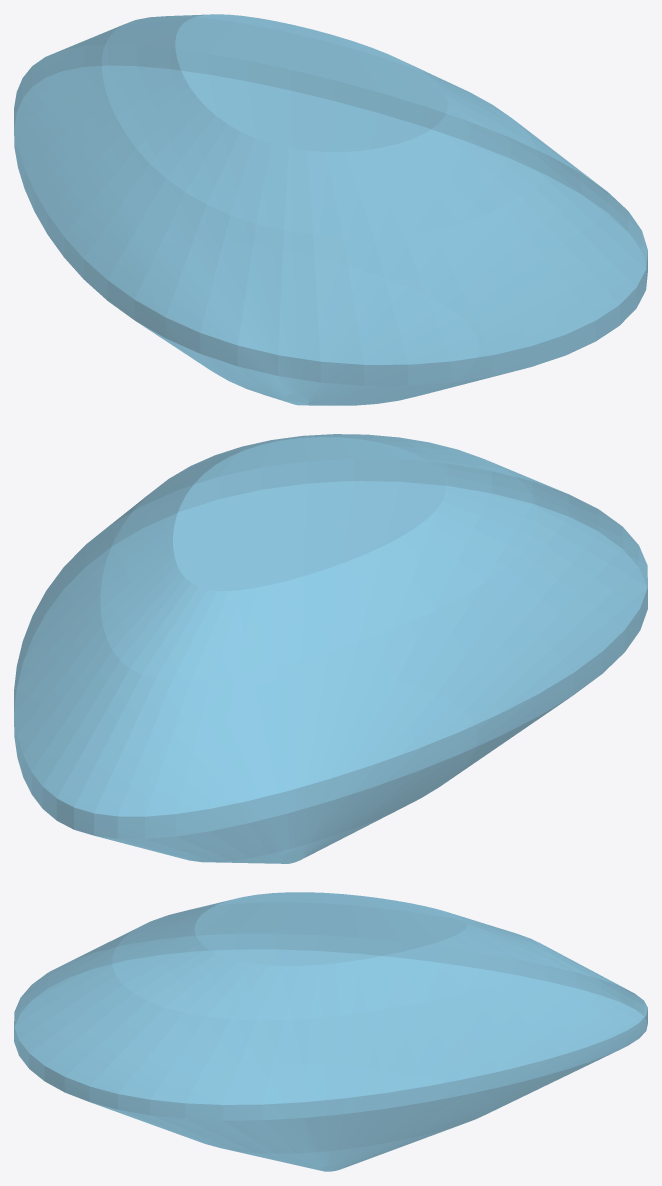
The model's file is stone-topaz.glb.
3 renders of one model, top to bottom at view 1: azimuth 30°, elevation 25°; view 2: azimuth 150°, elevation 25°; view 3: azimuth 270°, elevation 25°, orthographic. The views are drawn at different scales.
Visible parts, largest first — view 1: Sculpture; view 2: Sculpture; view 3: Sculpture.
Part boxes in pixels (x1,y1,x2,y2): Sculpture: (14, 14, 647, 405); Sculpture: (14, 434, 647, 863); Sculpture: (14, 892, 647, 1171).
Bounding box in the file's own units: 1.63 × 1.07 × 2.55.
